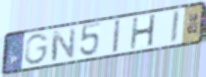5: (78, 21, 102, 59)
G: (24, 33, 51, 66)
H: (130, 13, 158, 51)
I: (169, 8, 181, 45), (111, 18, 122, 54)
N: (50, 26, 77, 63)
